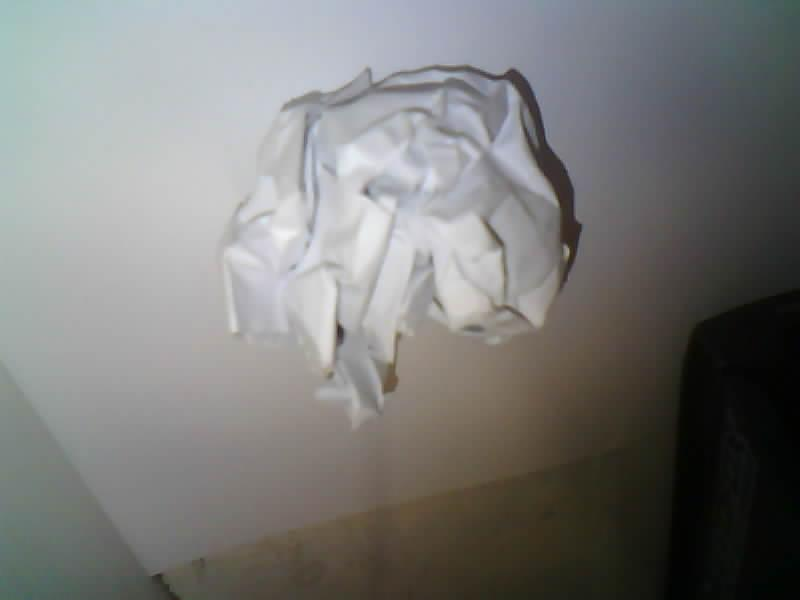biodegradable: (222, 68, 568, 424)
